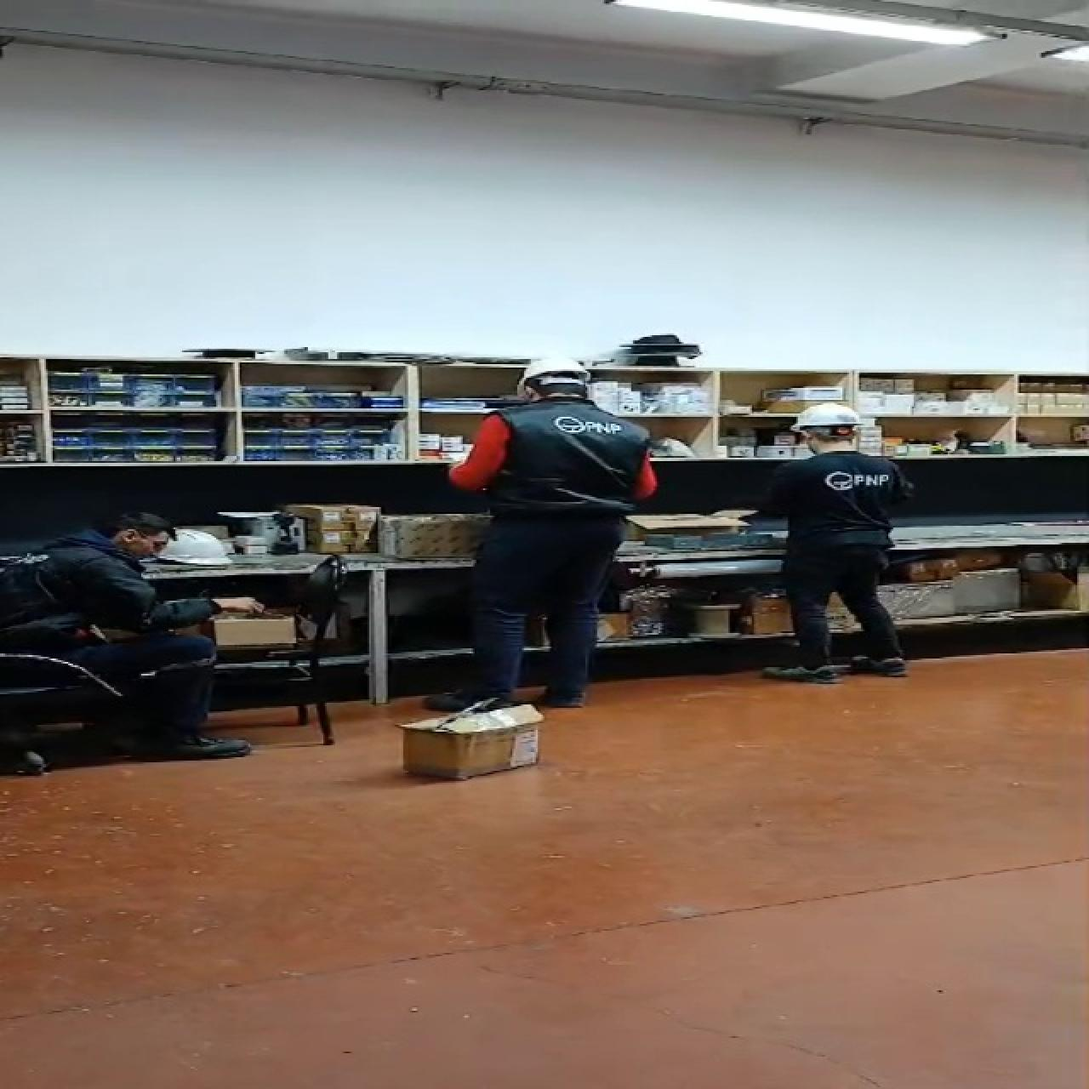NO_Safety_Vest: (499, 403, 643, 521), (0, 529, 112, 636), (783, 450, 902, 547)
Person: (430, 339, 657, 708), (0, 514, 273, 770), (731, 395, 927, 692)
